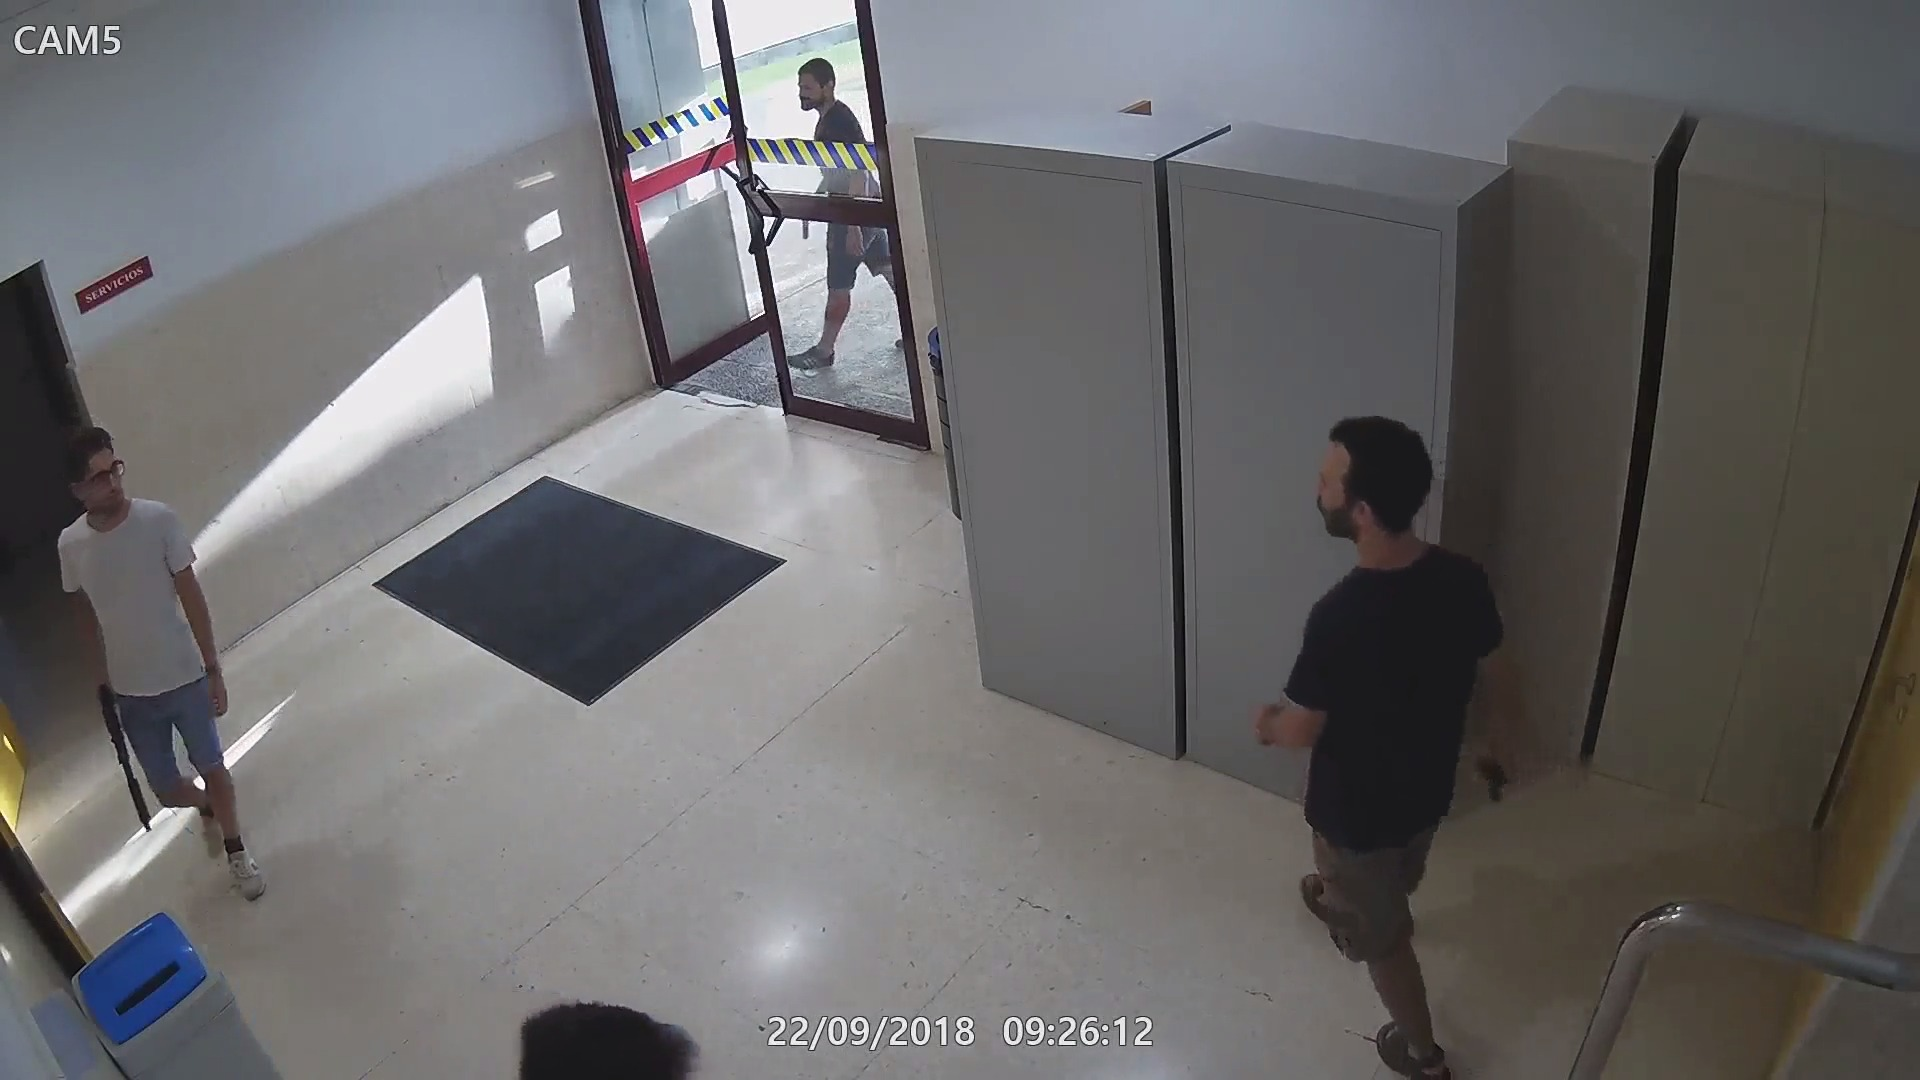Handgun: (1473, 750, 1524, 806), (796, 219, 815, 244)
Short_rifle: (99, 670, 157, 839)
